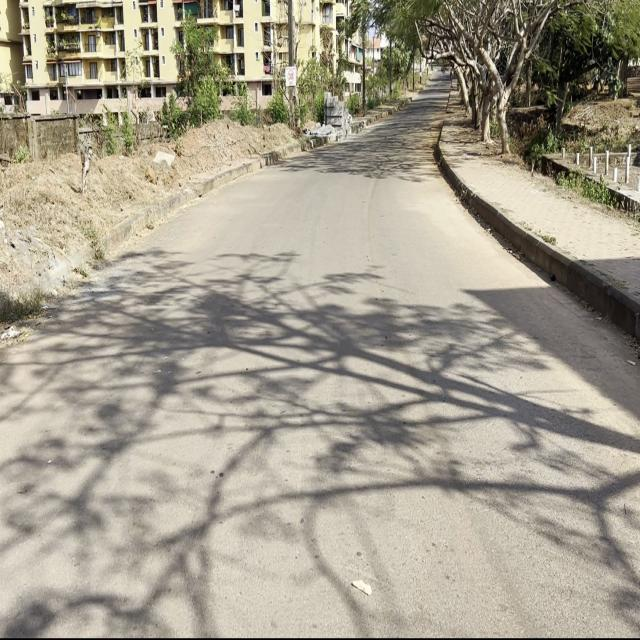Road: (0, 98, 640, 640)
